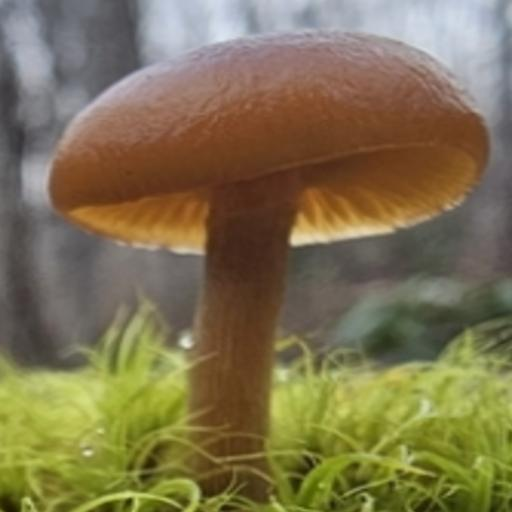mushroom: (47, 26, 500, 422)
